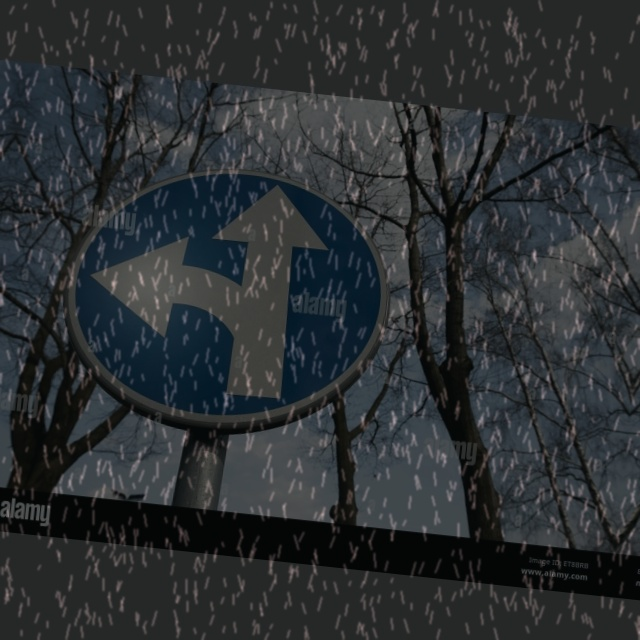Compulsory_Ahead_or_Turn_Left: (45, 147, 400, 442)
